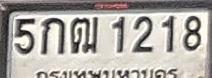1: (112, 16, 125, 53), (162, 15, 174, 52)
2: (132, 15, 153, 52)
5: (14, 18, 36, 54)
8: (183, 15, 201, 50)
A01: (40, 17, 64, 54)
A18: (70, 16, 98, 53)
